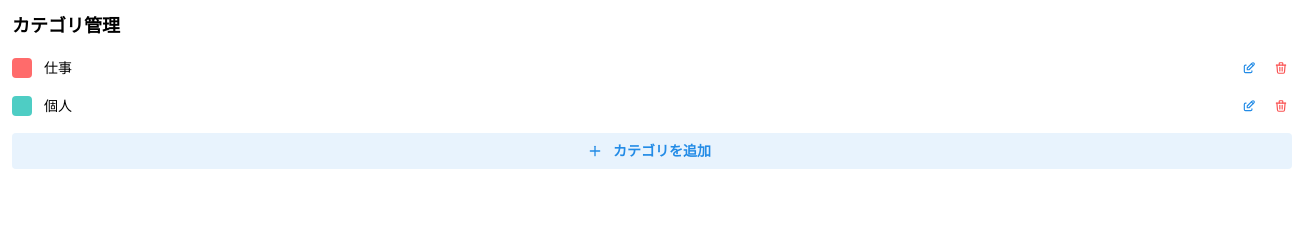
Test: CategoryList › キャンセルボタンで追加をキャンセルできる
追加ボタンをクリック
Click the button "カテゴリを追加" at (652, 151), box x1=12 y1=133 x2=1292 y2=169
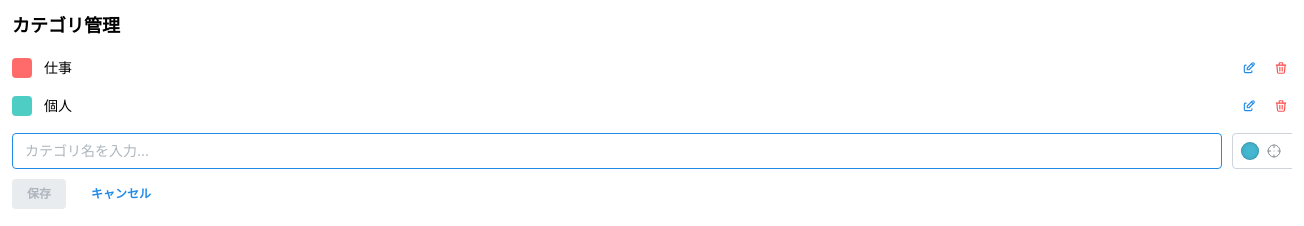
カテゴリ名を入力
Type "新しいカテゴリ" into the field with placeholder "カテゴリ名を入力..." at (617, 151), box x1=12 y1=133 x2=1222 y2=169
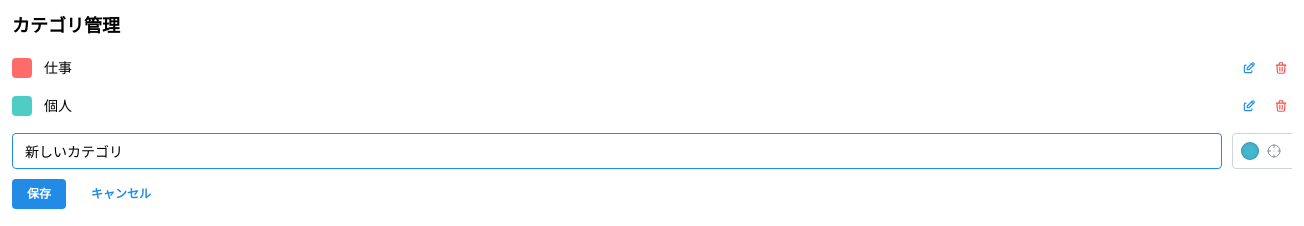
キャンセルボタンをクリック
Click the button "キャンセル" at (121, 194), box x1=76 y1=179 x2=166 y2=209
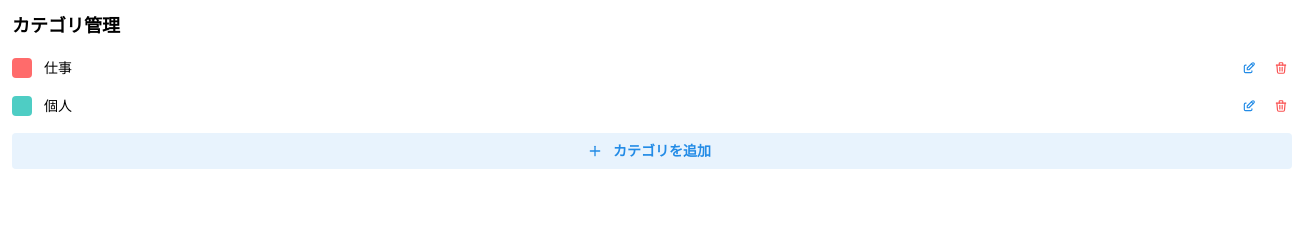
Expected: the field with placeholder "カテゴリ名を入力..." is gone
